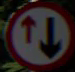Two way: (10, 6, 64, 57)
